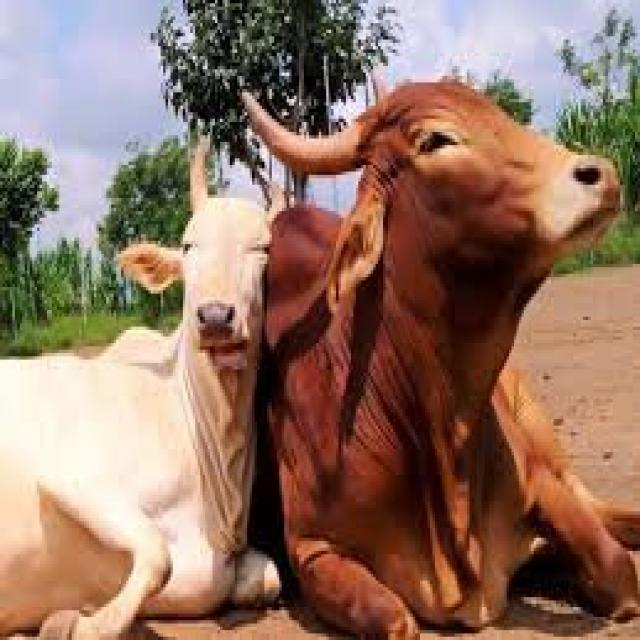Ox: (244, 62, 640, 640), (0, 125, 307, 640)
